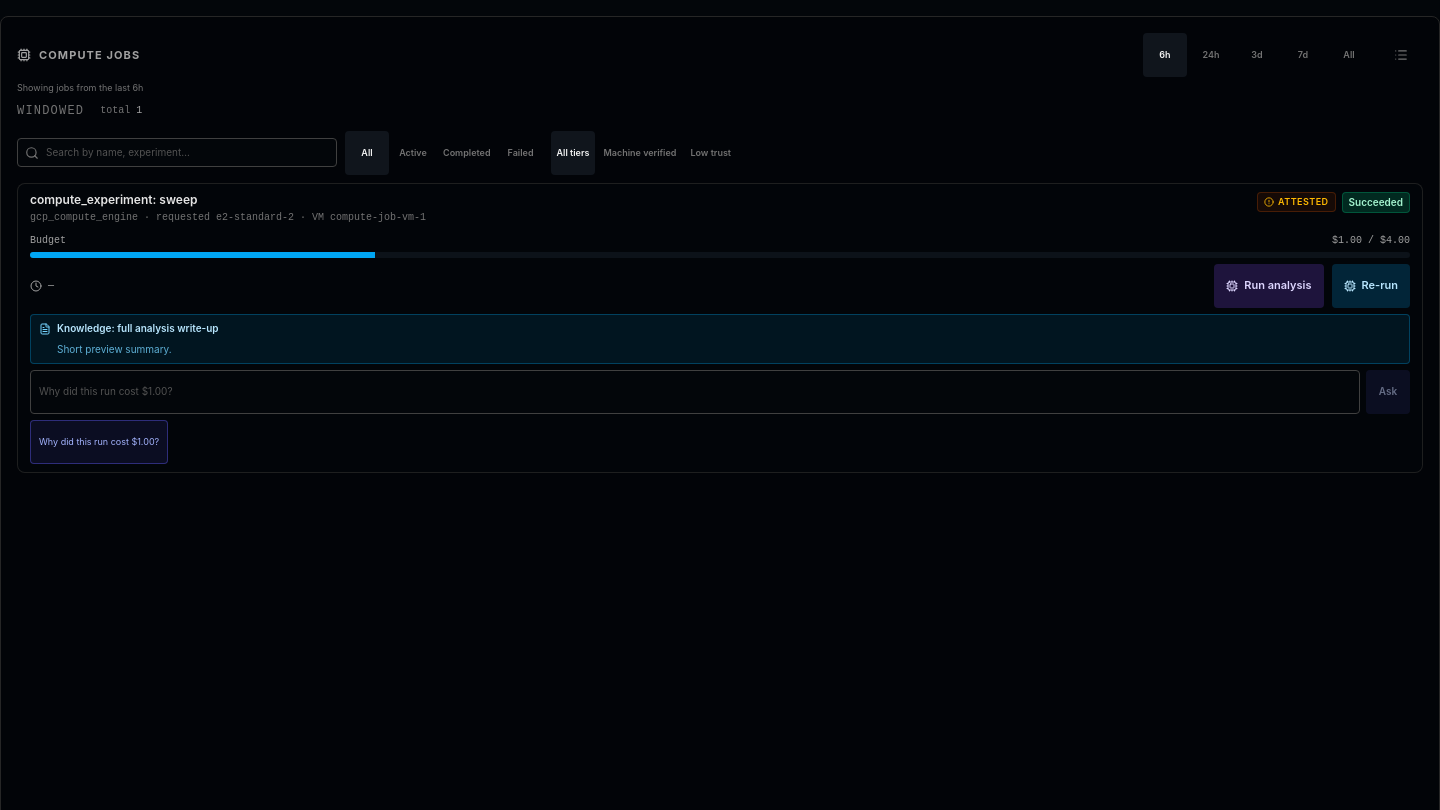
Test: ComputeJobsPanel render + kill › knowledge doc card is interactive: clicking the title toggles the full body
# Click to expand
Click the button with test id "compute-knowledge-doc-toggle" at (138, 328), box [57, 320, 1401, 336]
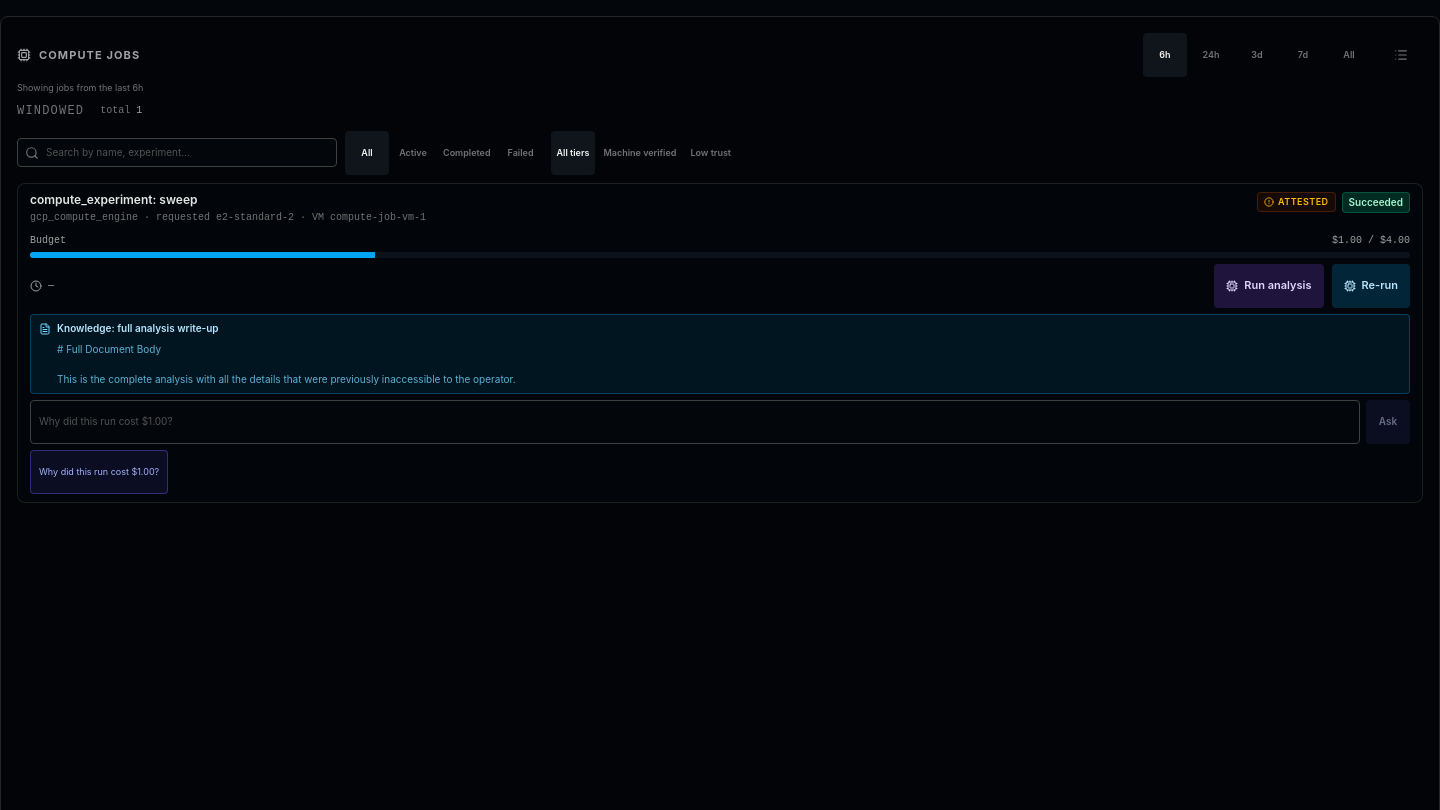
Expected: the text with test id "compute-knowledge-doc-body" shows "This is the complete analysis with all the details", [57, 342, 516, 384]
